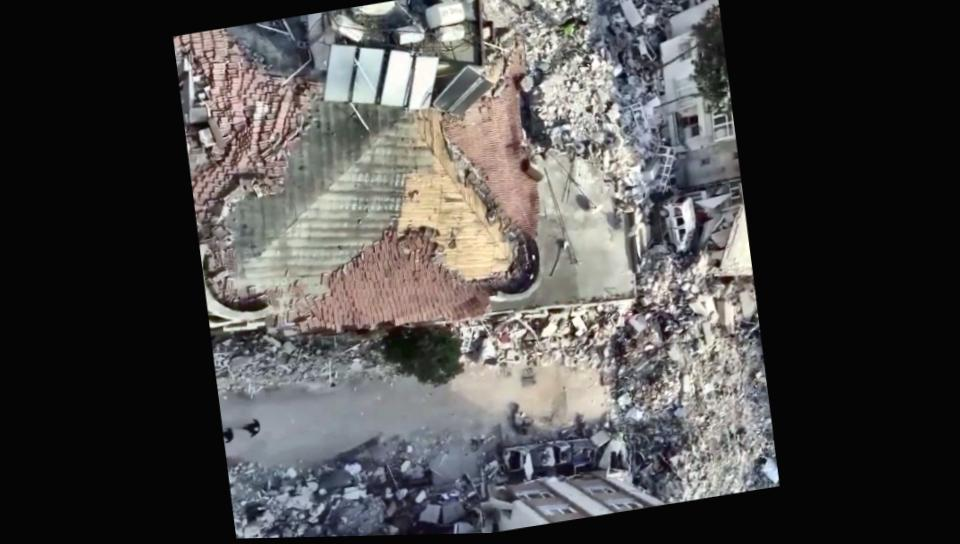kapali: (547, 293, 770, 441)
